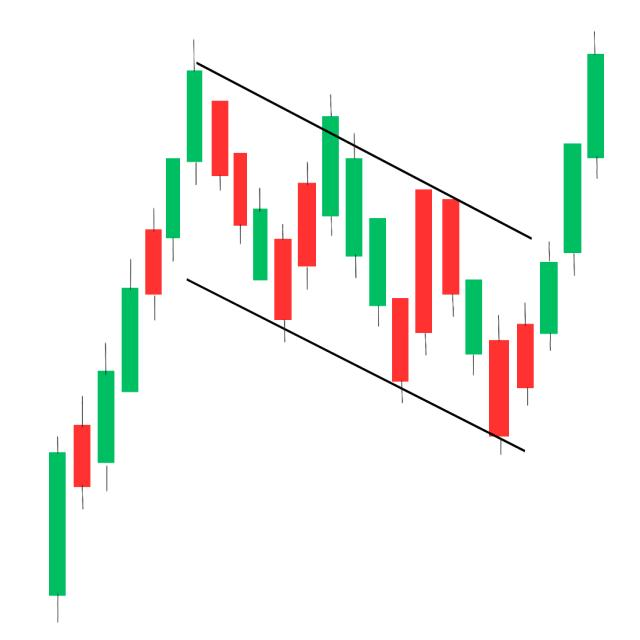Channel-down: (128, 51, 581, 460)
